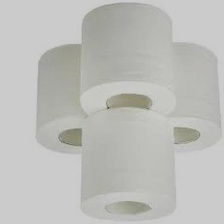tissue: (72, 0, 184, 125), (74, 102, 181, 223), (135, 36, 223, 158), (31, 38, 118, 160)
